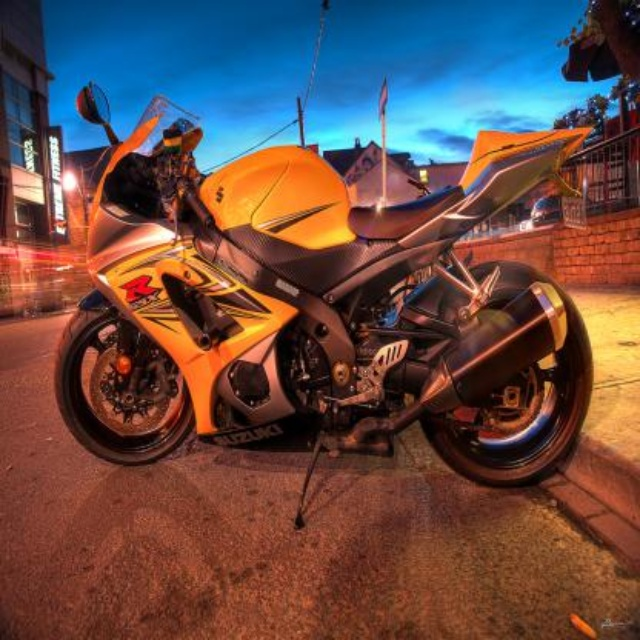Motorcycle: (62, 87, 586, 529)
